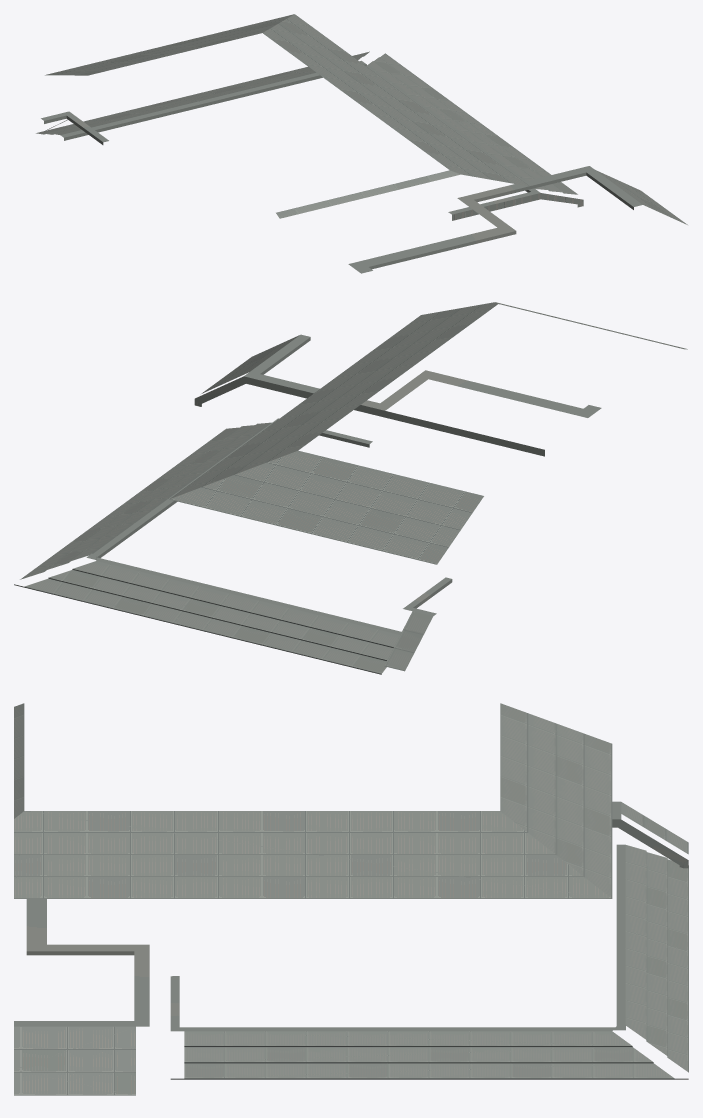
The model's file is kd_stage_135c43_4_93_bounded.glb.
3 views of the same model, one above another, from view 1: azimuth 30°, elevation 25°; view 2: azimuth 150°, elevation 25°; view 3: azimuth 270°, elevation 25° (orthographic). The views are drawn at different scales.
Parts seen in each view (by area): view 1: kd_stage_135c43_4_93_bounded; view 2: kd_stage_135c43_4_93_bounded; view 3: kd_stage_135c43_4_93_bounded.
Part boxes in pixels (<box>): kd_stage_135c43_4_93_bounded: <box>36,14,687,273</box>; kd_stage_135c43_4_93_bounded: <box>14,302,687,674</box>; kd_stage_135c43_4_93_bounded: <box>14,703,688,1095</box>.
Bounding box in the file's own units: 6.68 × 1.95 × 7.52.
1 material, 1 textured.
